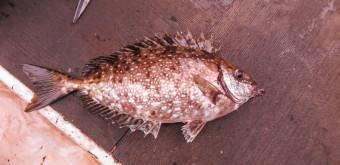fish: (23, 31, 263, 141)
